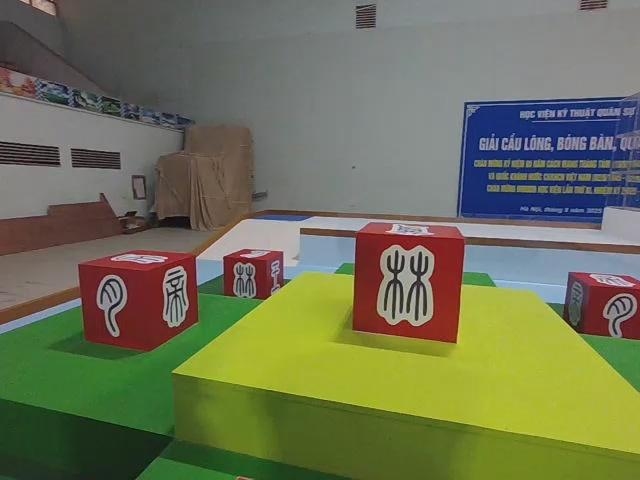R2 Fake: (347, 217, 467, 346), (79, 246, 200, 349), (564, 267, 640, 346), (224, 245, 287, 307)
